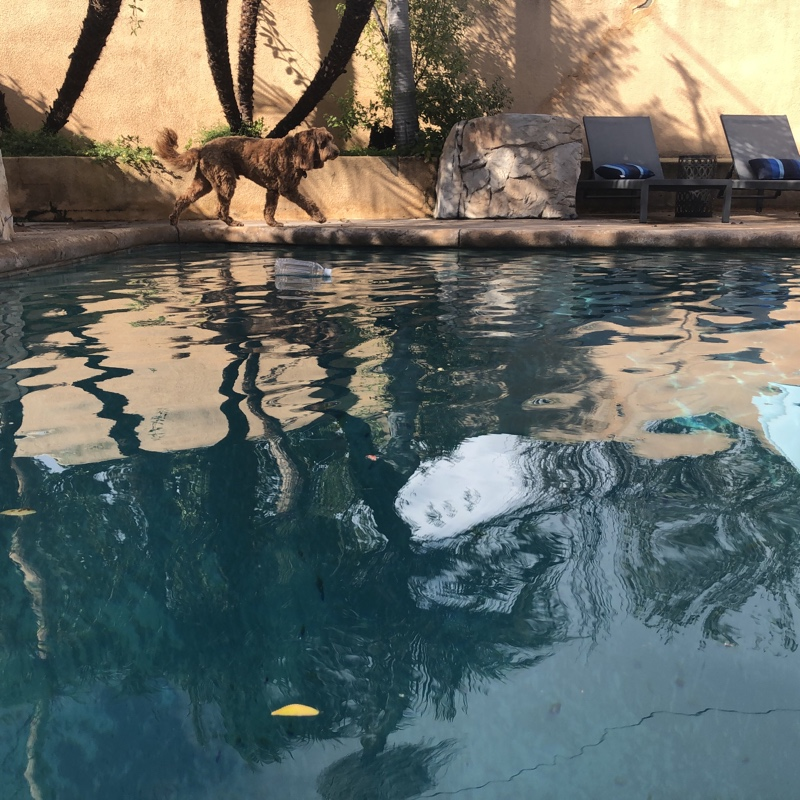Plastic Bottle: (271, 254, 333, 283)
